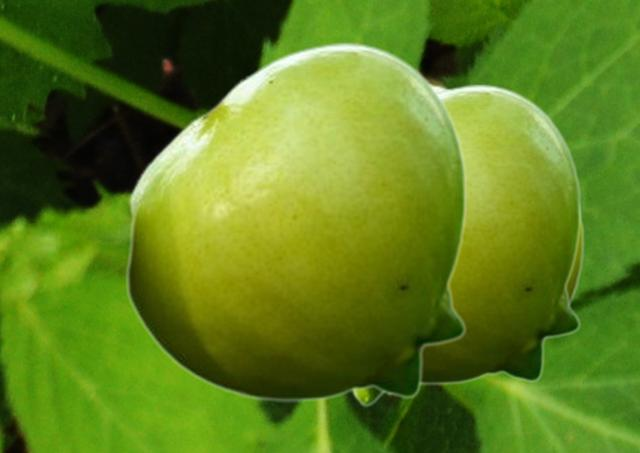guava: (124, 41, 467, 401), (423, 83, 581, 384)
